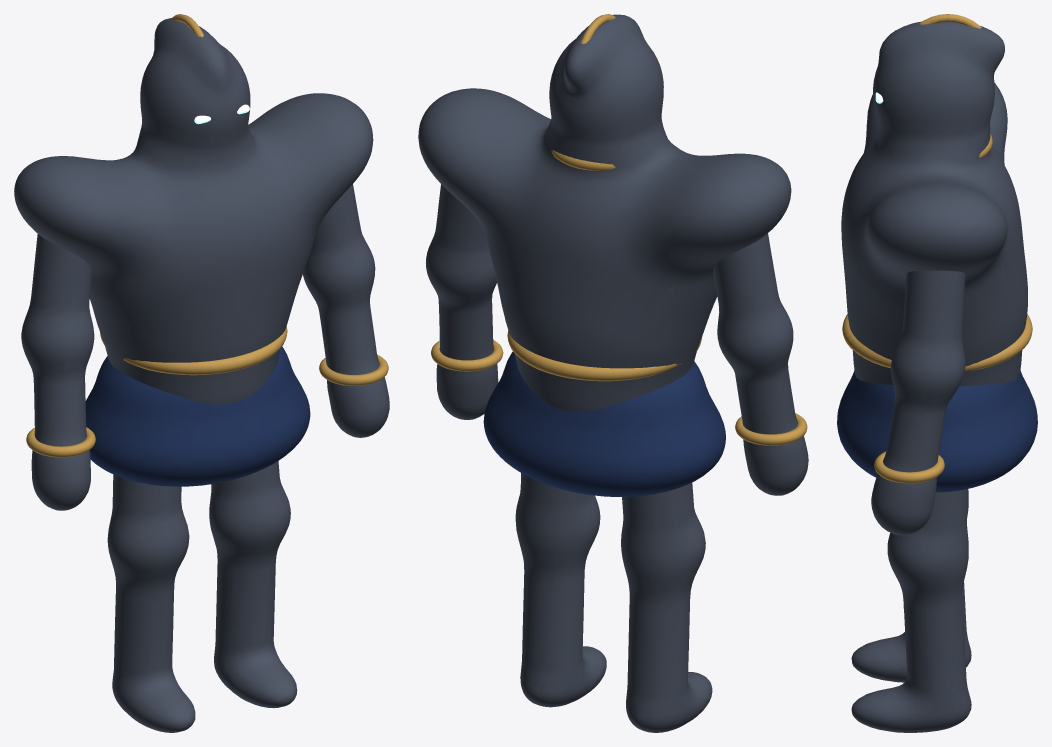
Rendered from armour_guardian.glb.
The picture shows the model from 3 angles, left to right: view 1: azimuth 30°, elevation 25°; view 2: azimuth 150°, elevation 25°; view 3: azimuth 270°, elevation 25°; orthographic projection. The views are drawn at different scales.
Visible parts, largest first — view 1: Torso, Legs, Skirt, Arm_R, Arm_L, Trim_Waist, Cuff_R, Cuff_L; view 2: Torso, Legs, Skirt, Arm_R, Arm_L, Trim_Waist, Cuff_L, Cuff_R; view 3: Torso, Legs, Arm_L, Skirt, Trim_Waist, Cuff_L, Trim_Crest.
Boxes of the visible parts, x1,y1,x2,y2 form: Torso: [14, 18, 373, 404]; Legs: [107, 461, 297, 732]; Skirt: [85, 346, 310, 486]; Arm_R: [21, 234, 94, 510]; Arm_L: [303, 184, 389, 437]; Trim_Waist: [100, 326, 287, 375]; Cuff_R: [26, 427, 95, 457]; Cuff_L: [319, 355, 388, 385]; Torso: [418, 14, 791, 411]; Legs: [515, 473, 712, 732]; Skirt: [483, 351, 725, 496]; Arm_R: [713, 233, 808, 495]; Arm_L: [426, 184, 498, 419]; Trim_Waist: [507, 330, 701, 381]; Cuff_L: [431, 340, 503, 371]; Cuff_R: [735, 413, 807, 445]; Torso: [841, 21, 1027, 386]; Legs: [851, 489, 971, 732]; Arm_L: [871, 270, 965, 535]; Skirt: [837, 370, 1037, 492]; Trim_Waist: [842, 314, 1032, 370]; Cuff_L: [874, 451, 944, 483]; Trim_Crest: [919, 14, 981, 28].
Size of the model in its own units: 1.18 by 2.17 by 0.5732.
